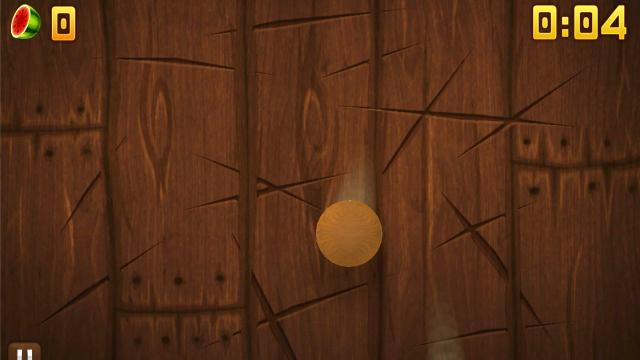fruit: (314, 199, 384, 267)
ignore: (9, 3, 43, 41)
